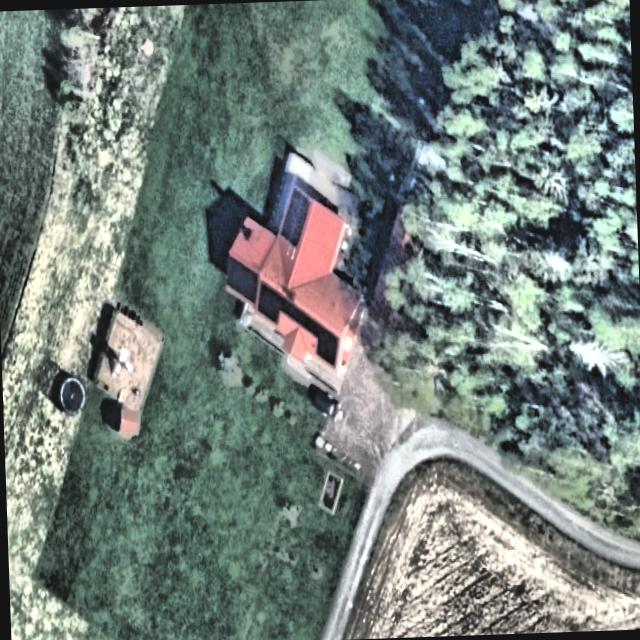roof_pv: (276, 186, 315, 250), (223, 253, 260, 308), (278, 293, 324, 336), (256, 276, 281, 331), (312, 324, 340, 371)
